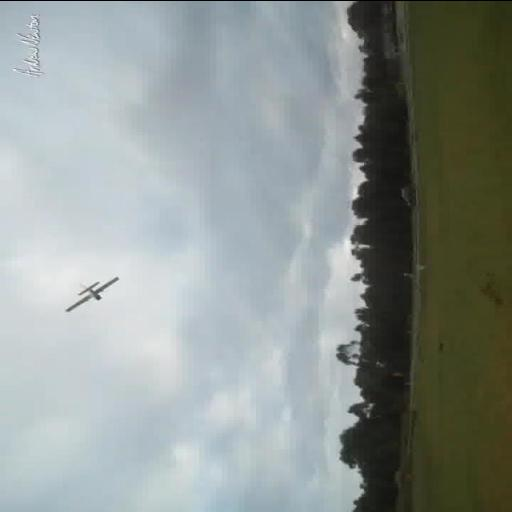uav: (52, 268, 138, 320)
